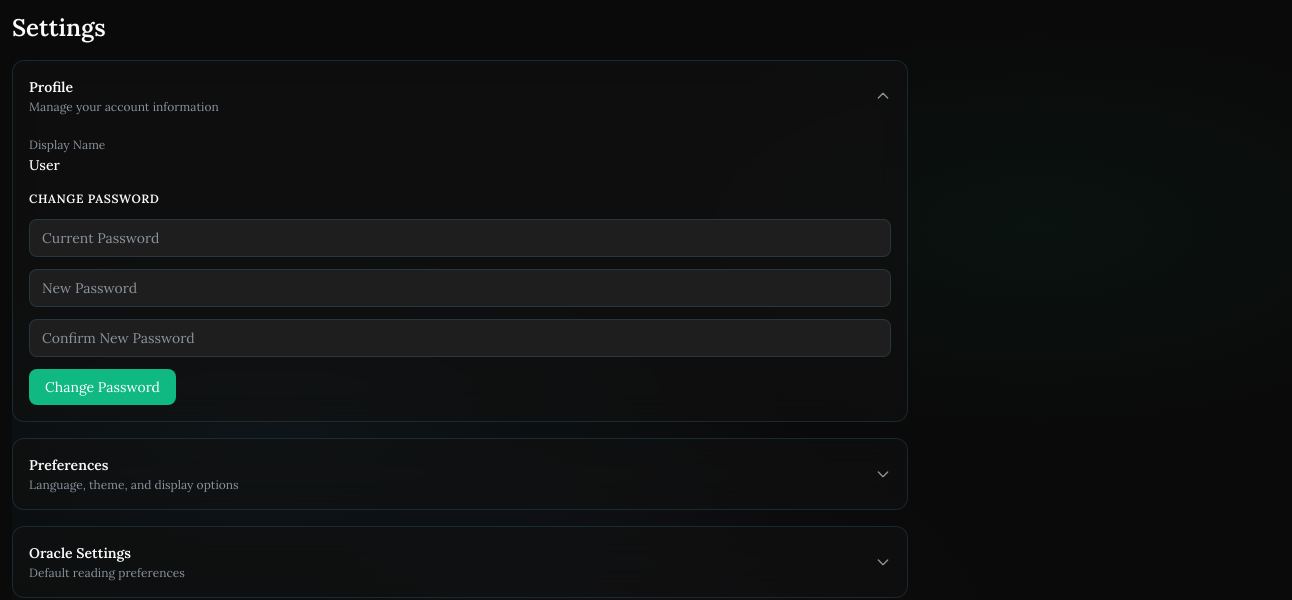
Scenario: Settings Page › preferences section shows language selector
Note: Expand Preferences
Click the heading "Preferences".
click(69, 465)  # box [29,456,108,474]
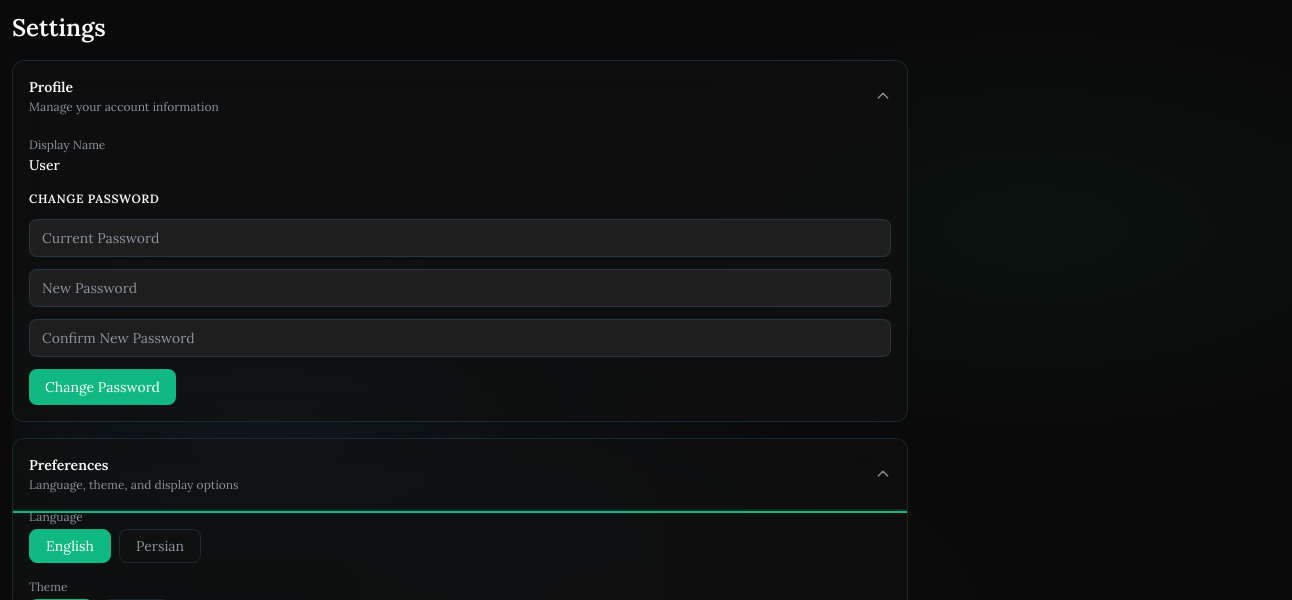
Check: the button "English" is shown, box [29,529,111,563]
